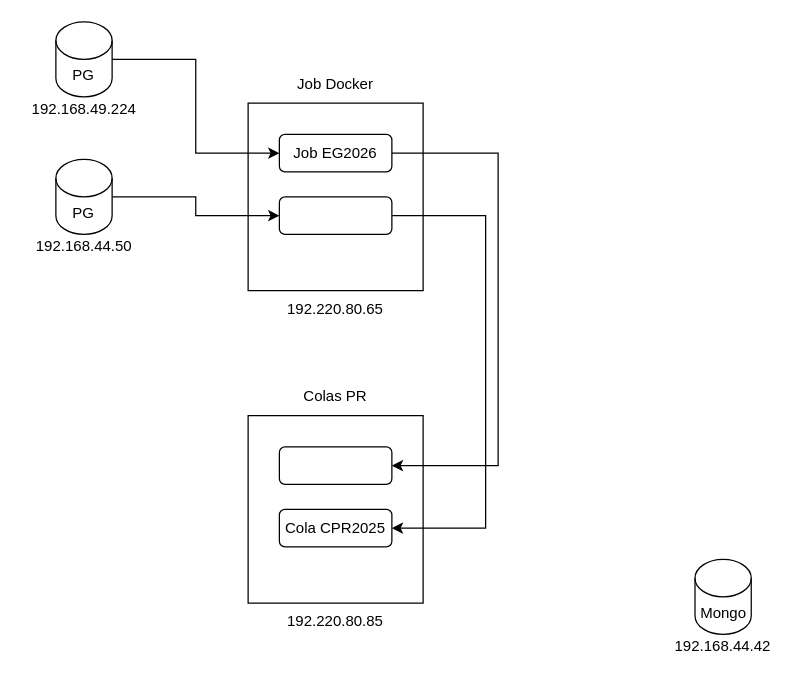
This 808x681 diagram has some shape labels left out. The centre of each missing label's shape, as x and y in pixels:
"Cola EG2026" belongs at point (335, 465).
"Job CPR2025" belongs at point (335, 215).
